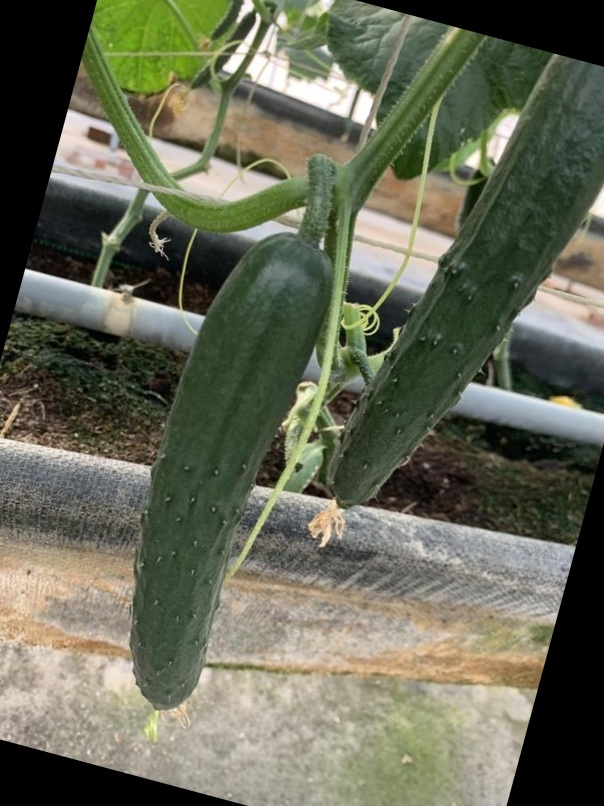mature: (328, 68, 600, 508), (116, 260, 304, 728)
